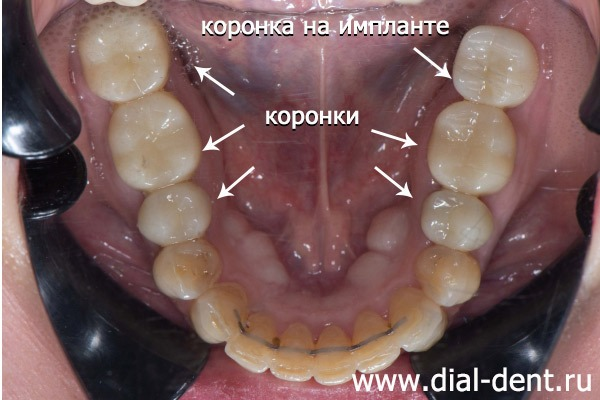LL1BC_healthy: (419, 250, 481, 304)
LL1M_healthy: (433, 104, 515, 191)
LL2BC_healthy: (426, 191, 493, 246)
LL2M_healthy: (455, 26, 535, 100)
LLCI_decay: (314, 322, 353, 383)
LLC_healthy: (393, 289, 443, 349)
LLLI_healthy: (353, 313, 400, 367)
LR1BC_decay: (157, 244, 219, 294)
LR1M_healthy: (113, 100, 202, 184)
LR2BC_healthy: (137, 187, 213, 240)
LR2M_healthy: (81, 17, 170, 97)
LRCI_decay: (273, 319, 316, 382)
LRC_decay: (197, 282, 245, 342)
LRLI_decay: (235, 313, 274, 374)
